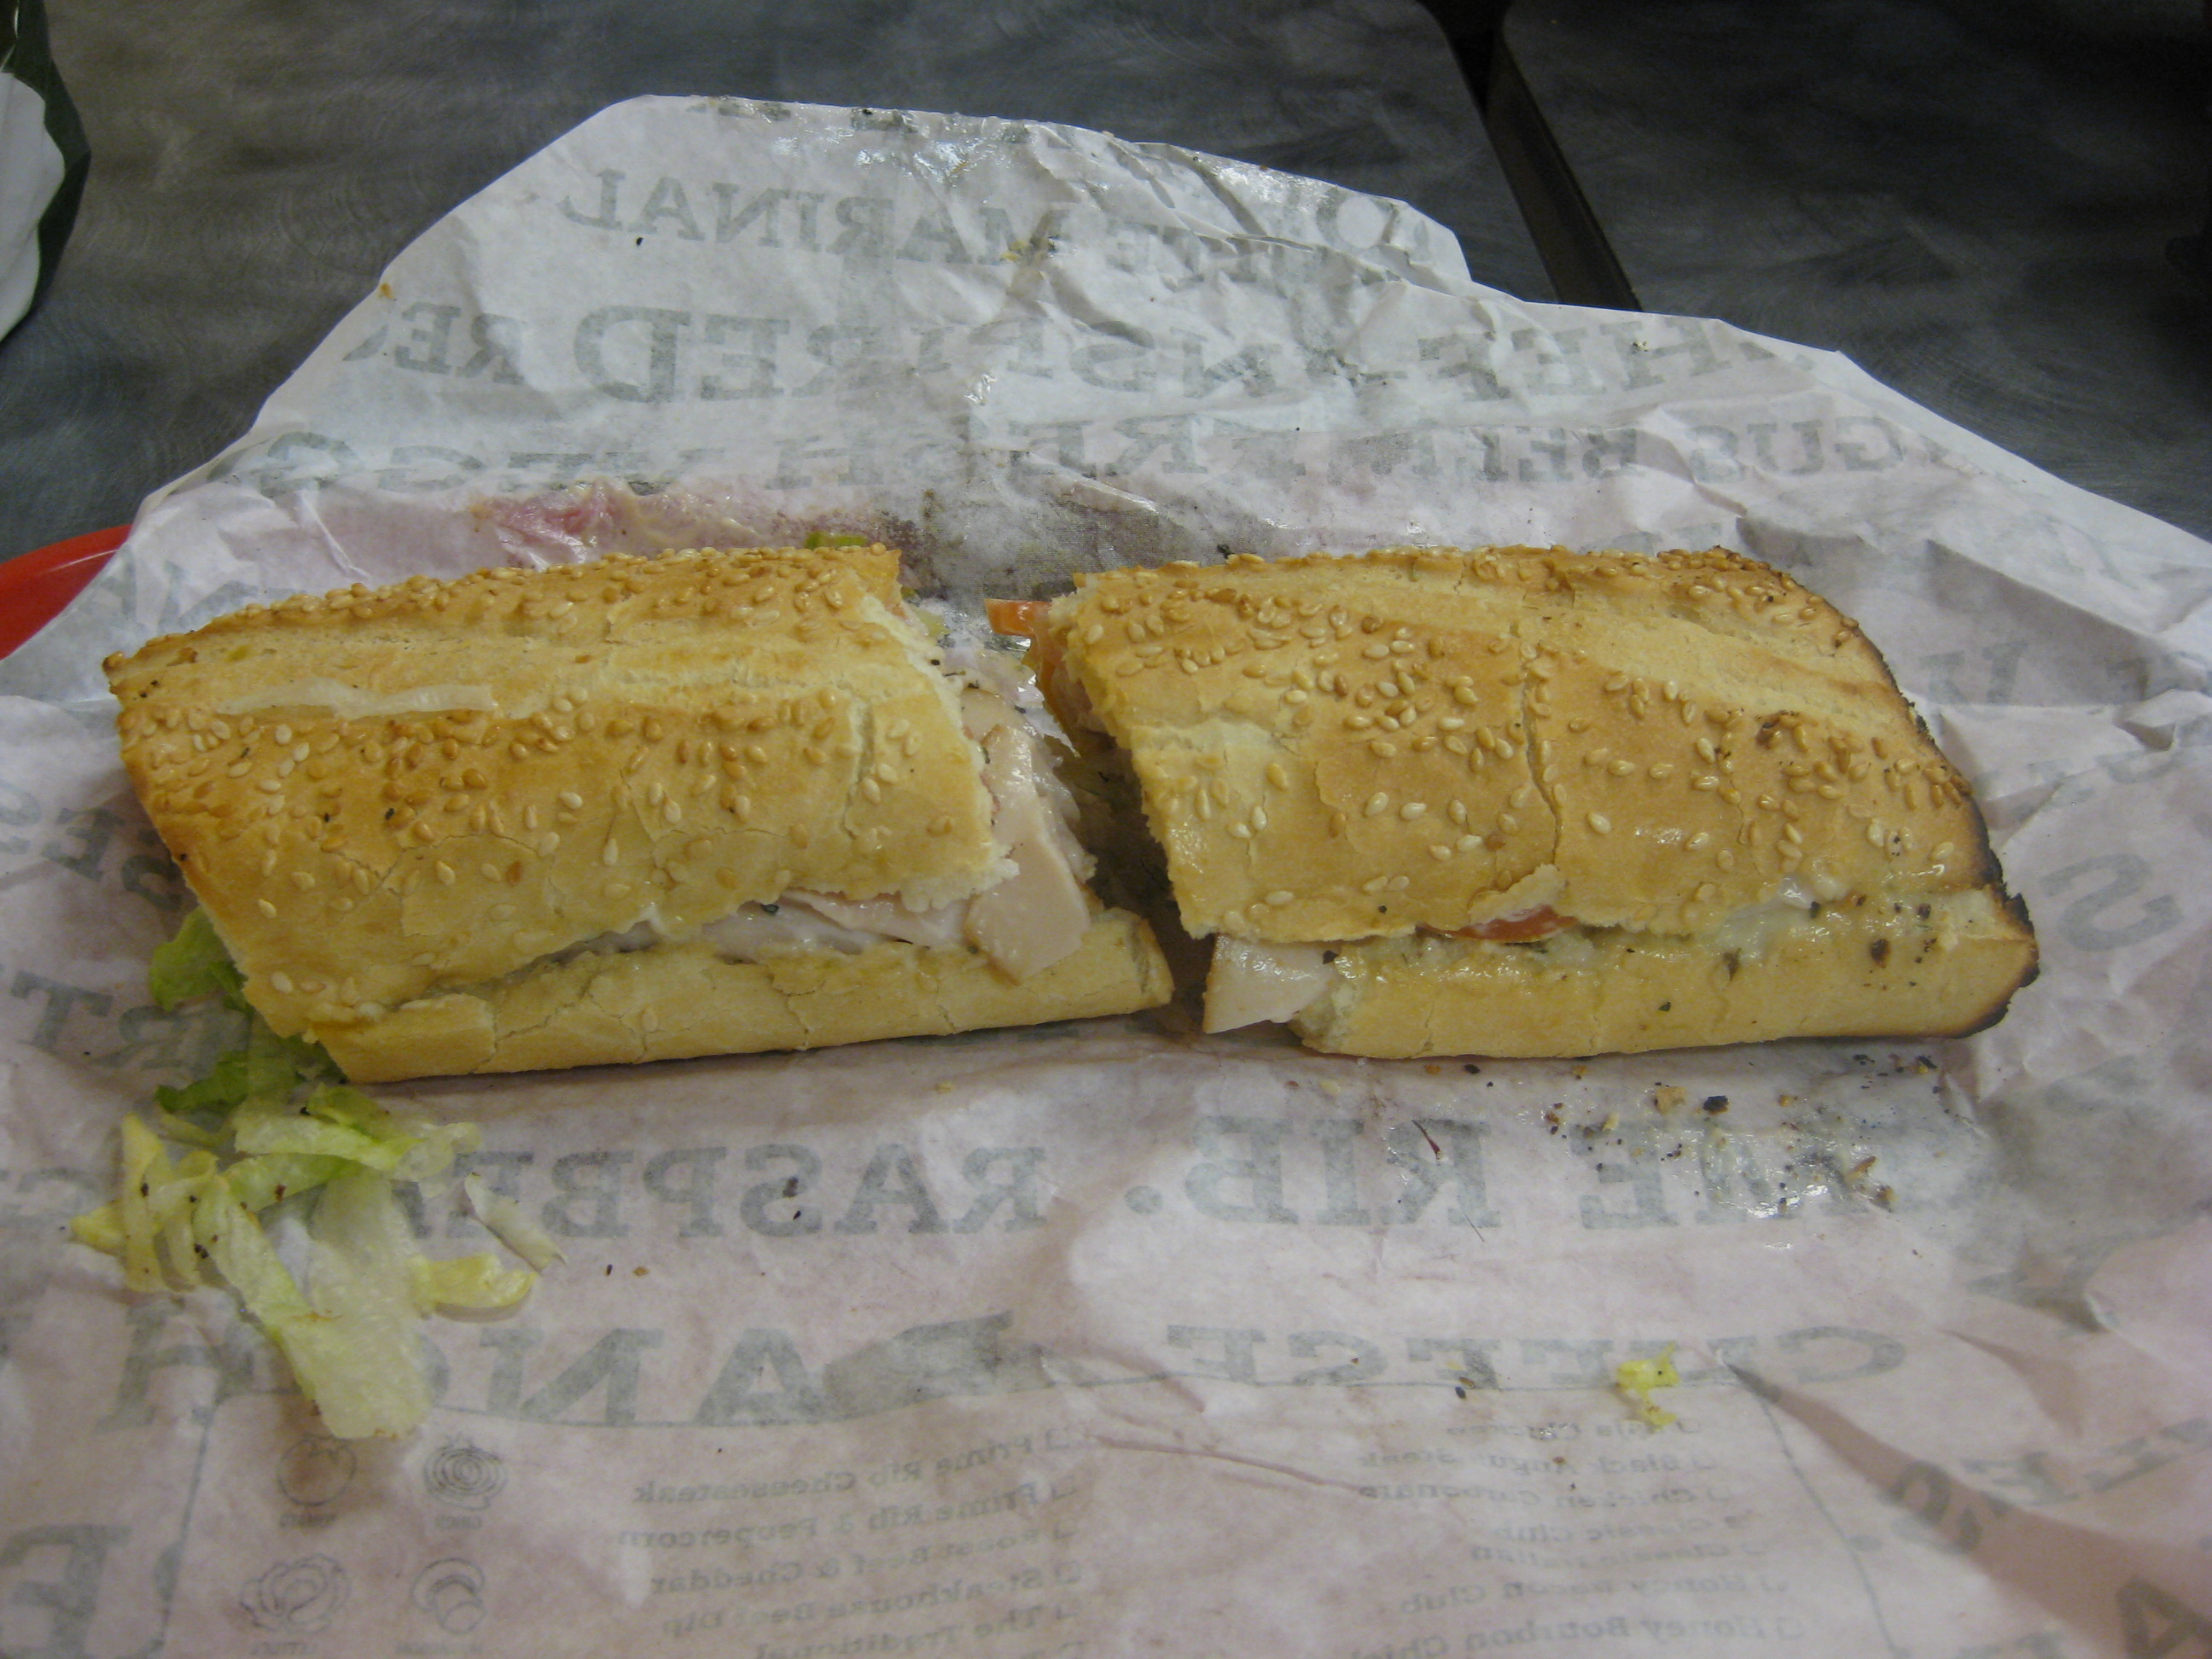sub: (72, 558, 2110, 1117)
